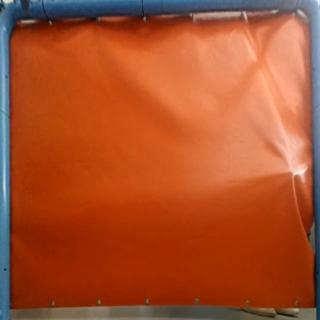Hit-hRxx: (286, 164, 303, 183)
